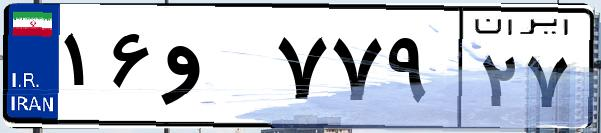1: (57, 26, 110, 100)
2: (475, 38, 525, 113)
6: (110, 28, 158, 98)
7: (270, 28, 330, 110), (330, 28, 385, 110), (525, 38, 570, 115)
9: (385, 28, 445, 110)
و: (158, 20, 270, 120)
